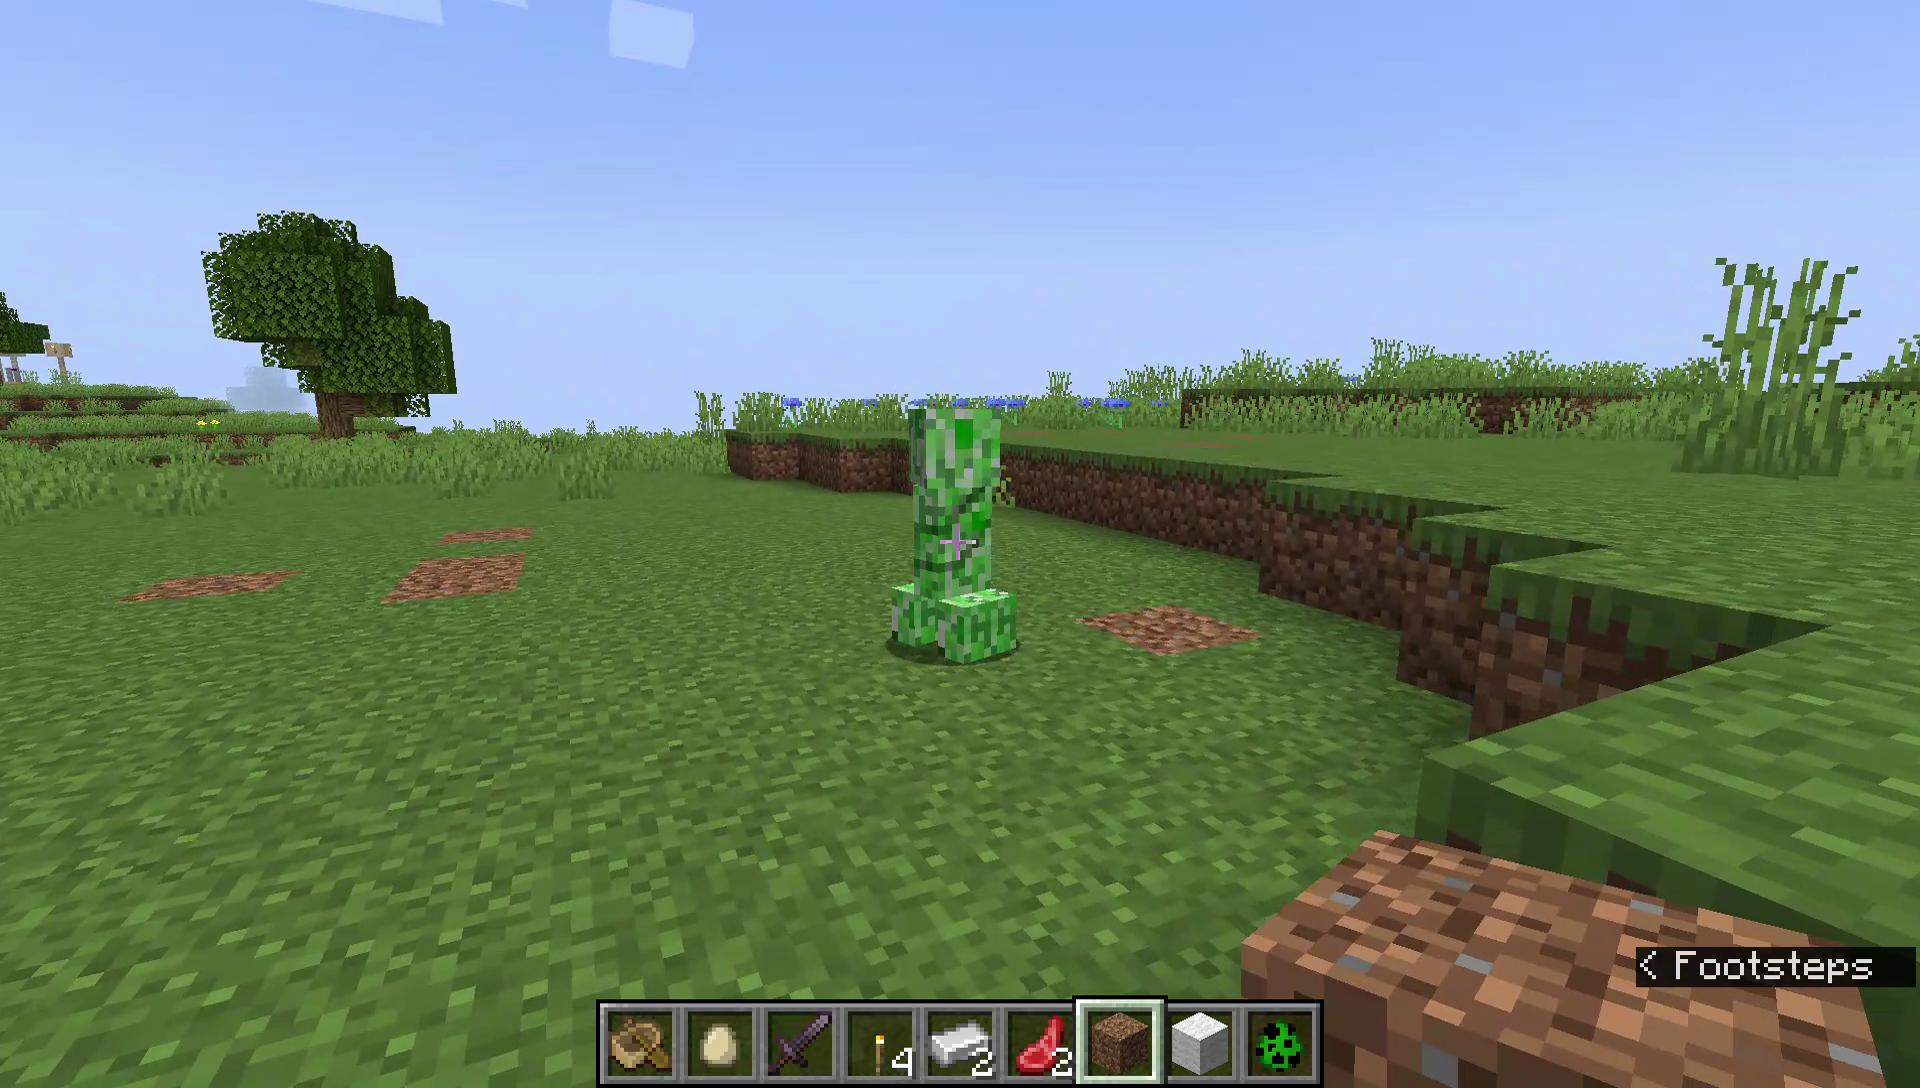creeper: (885, 400, 1027, 673)
